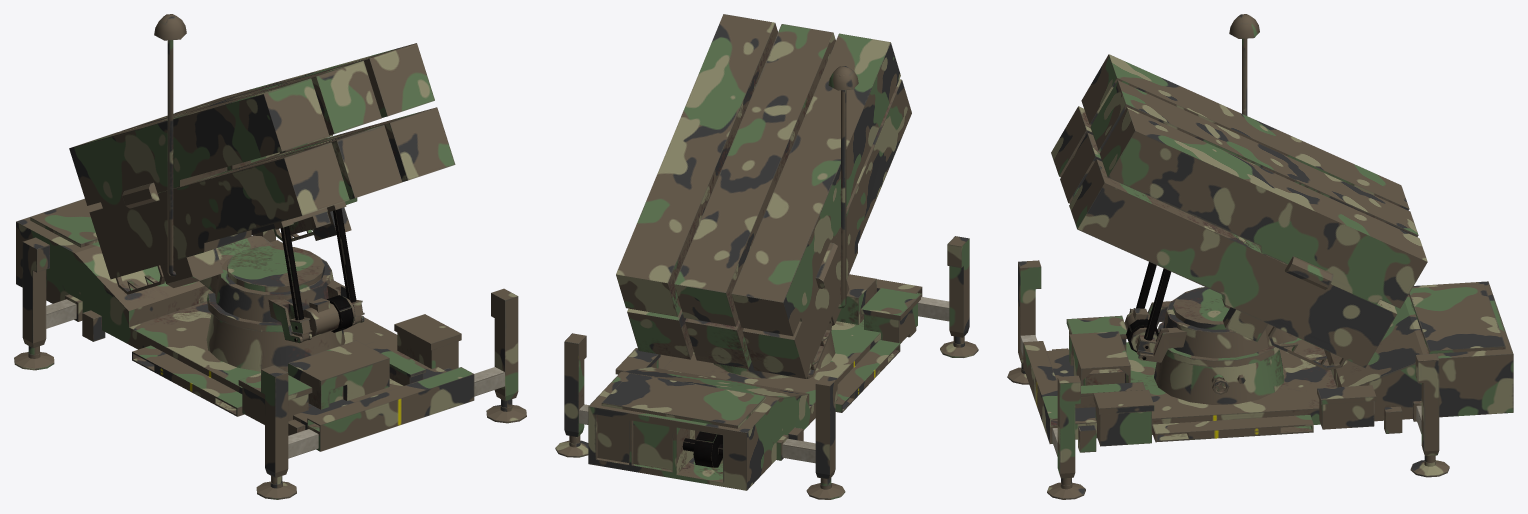
Rendered from nasams-battery.glb.
3 renders of one model, left to right at view 1: azimuth 30°, elevation 25°; view 2: azimuth 150°, elevation 25°; view 3: azimuth 270°, elevation 25°, orthographic. The views are drawn at different scales.
Visible parts, largest first — view 1: Object_2; view 2: Object_2; view 3: Object_2.
Boxes of the visible parts, left/top/right/bottom form: Object_2: left=14, top=14, right=526, bottom=499; Object_2: left=555, top=14, right=978, bottom=499; Object_2: left=1007, top=14, right=1513, bottom=499.
Size of the model in its own units: 12.82 by 14.2 by 17.79.
1 material, 1 textured.
